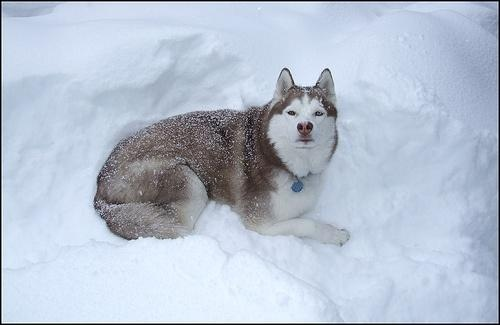dog: (84, 59, 360, 256)
